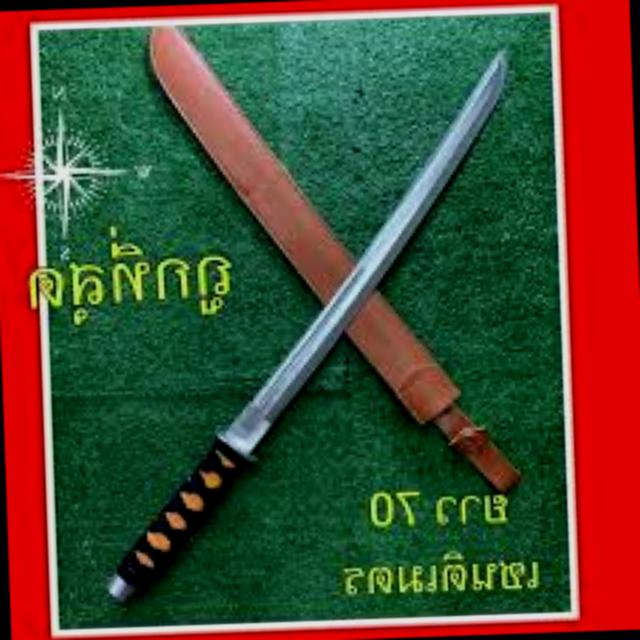long sword: (83, 46, 531, 609)
